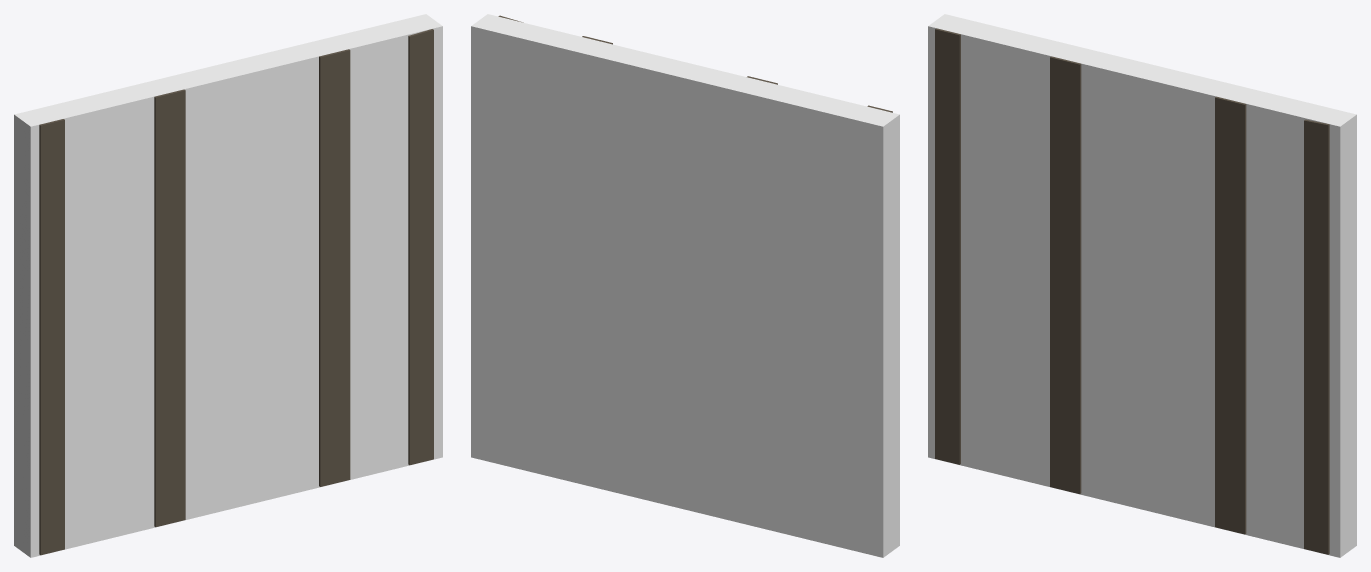
Rendered from _ROOF_up_quad_1.fbx.
3 renders of one model, left to right at view 1: azimuth 30°, elevation 25°; view 2: azimuth 150°, elevation 25°; view 3: azimuth 330°, elevation 25°, orthographic.
Parts seen in each view (by area): view 1: ROOF_up_quad_1; view 2: ROOF_up_quad_1; view 3: ROOF_up_quad_1.
Boxes of the visible parts, x1,y1,x2,y2 form: ROOF_up_quad_1: (14, 14, 442, 557); ROOF_up_quad_1: (471, 14, 899, 557); ROOF_up_quad_1: (928, 14, 1356, 557).
Bounding box in the file's own units: 100 × 100 × 7.61.
